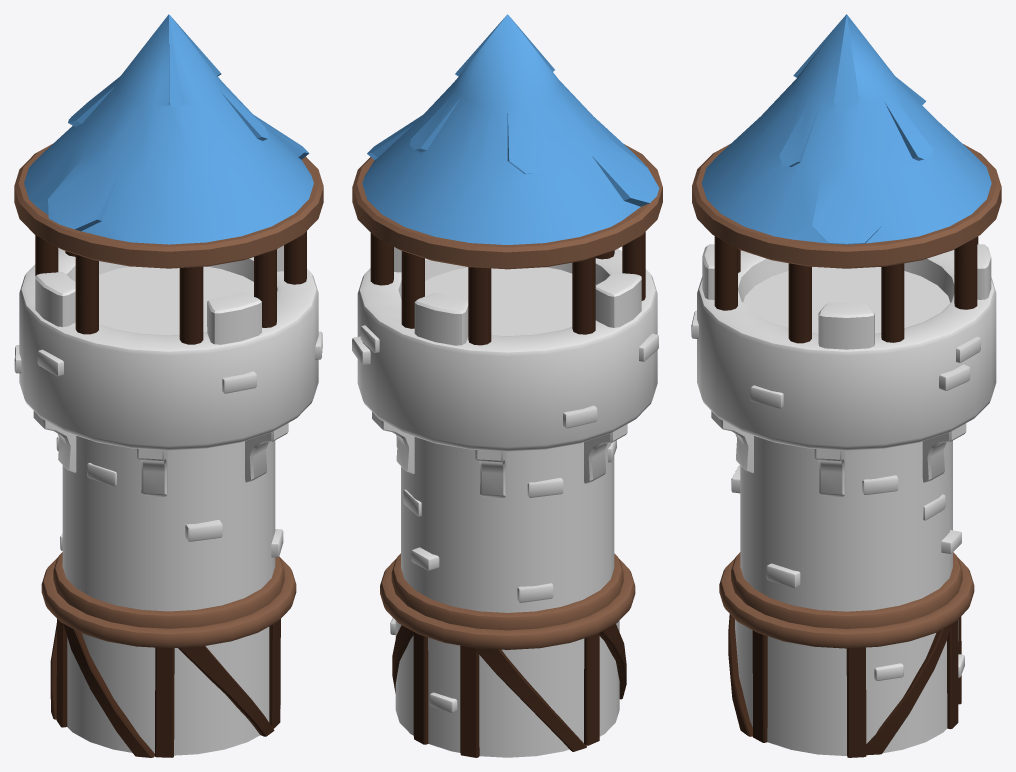
The model's file is Tower_2.fbx.
3 views of the same model, side by side, from view 1: azimuth 30°, elevation 25°; view 2: azimuth 150°, elevation 25°; view 3: azimuth 270°, elevation 25° (orthographic).
Parts seen in each view (by area): view 1: Tower_2; view 2: Tower_2; view 3: Tower_2.
Part boxes in pixels (x1,y1,x2,y2): Tower_2: (14, 14, 323, 757); Tower_2: (352, 14, 662, 757); Tower_2: (691, 14, 1001, 757).
Size of the model in its own units: 2.7 by 6.68 by 2.7.
